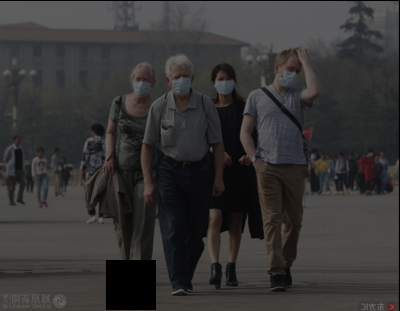with_mask: (278, 65, 301, 90), (169, 71, 191, 97), (131, 74, 151, 97), (213, 76, 235, 96)
without_mask: (13, 136, 19, 145), (36, 149, 42, 157)
